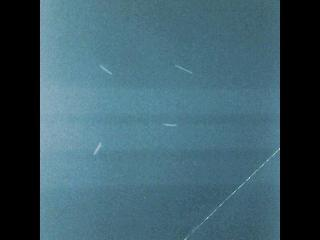crack: (185, 146, 281, 240)
scratch: (171, 60, 200, 80), (95, 60, 119, 81), (159, 117, 183, 133), (90, 137, 105, 161)
